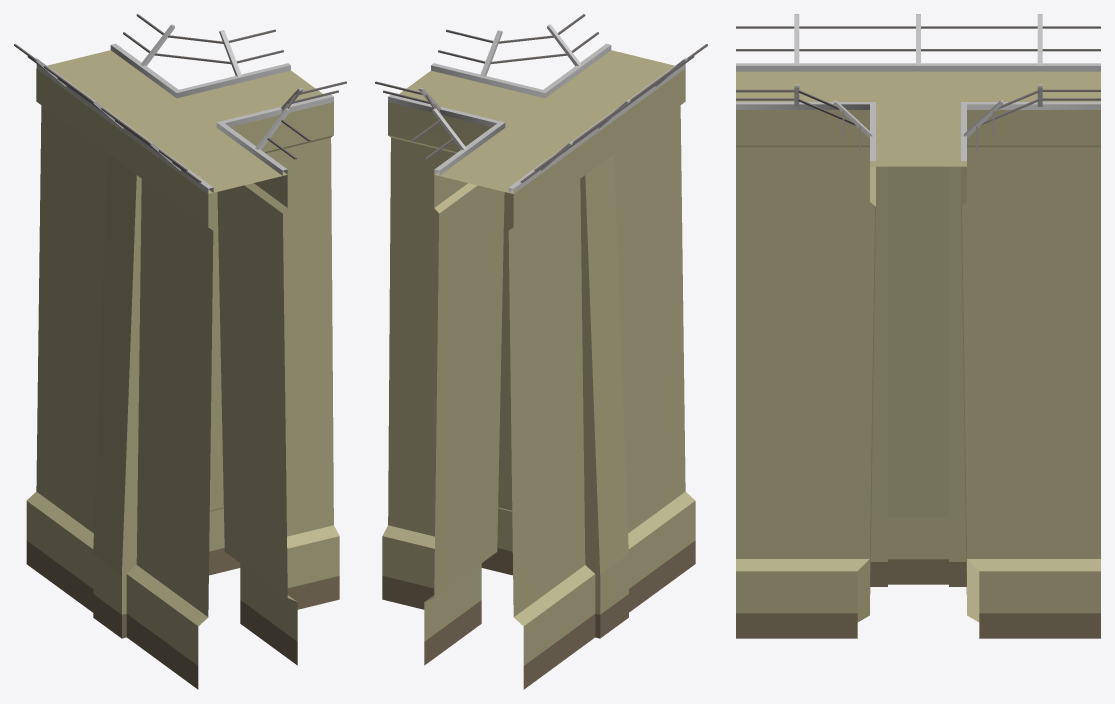
Rendered from SM_Wall_Big_Corner_A_600.FBX.
3 views of the same model, side by side, from view 1: azimuth 30°, elevation 25°; view 2: azimuth 150°, elevation 25°; view 3: azimuth 270°, elevation 25° (orthographic). The views are drawn at different scales.
Visible parts, largest first — view 1: SM_Wall_Big_Corner_A_600; view 2: SM_Wall_Big_Corner_A_600; view 3: SM_Wall_Big_Corner_A_600.
Part boxes in pixels (x1,y1,x2,y2): SM_Wall_Big_Corner_A_600: [14, 14, 346, 689]; SM_Wall_Big_Corner_A_600: [375, 14, 707, 689]; SM_Wall_Big_Corner_A_600: [736, 14, 1100, 638].
Bounding box in the file's own units: 440 × 600 × 1022.
